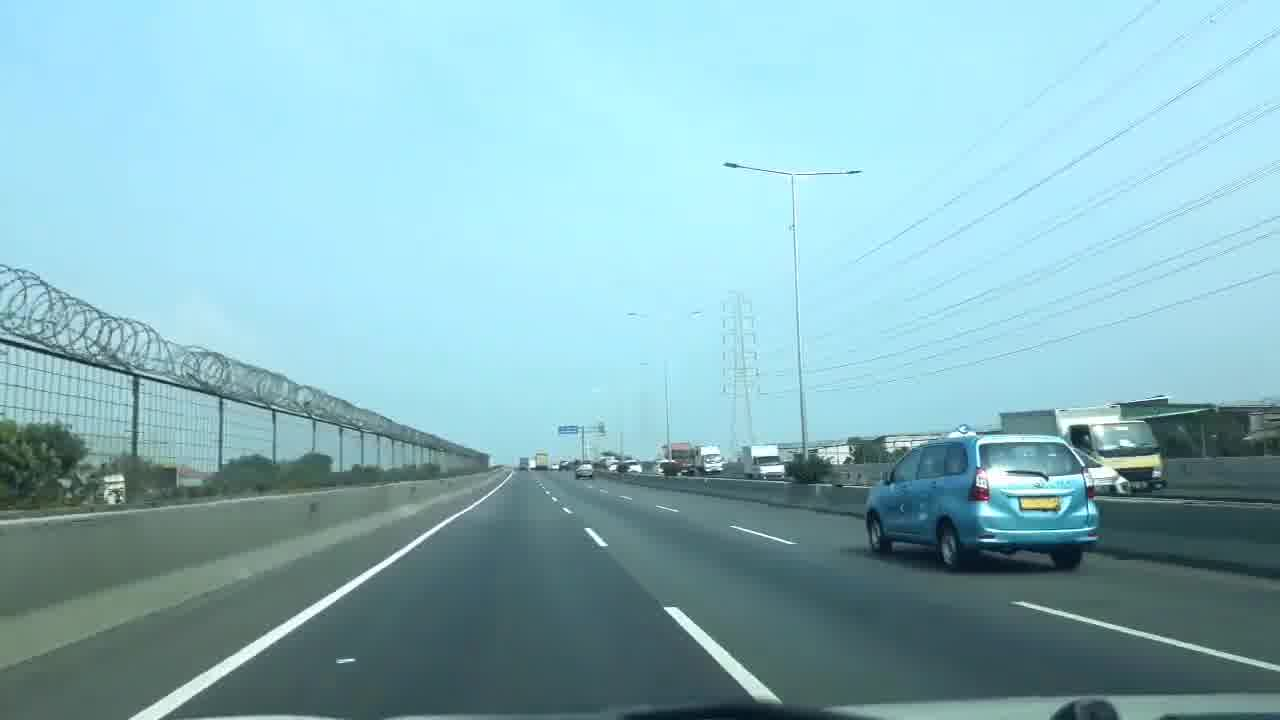plate_positive: (1019, 496, 1059, 511)
